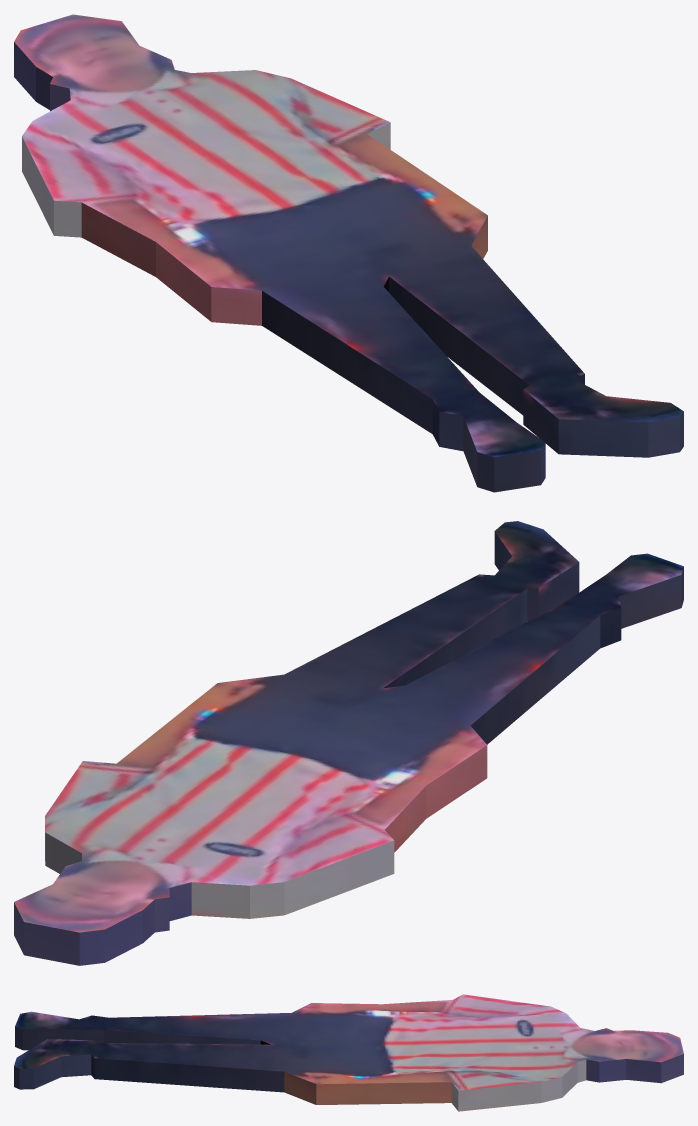
The model's file is round1-guy.glb.
The picture shows the model from 3 angles, top to bottom: view 1: azimuth 30°, elevation 25°; view 2: azimuth 150°, elevation 25°; view 3: azimuth 270°, elevation 25°; orthographic projection. The views are drawn at different scales.
Visible parts, largest first — view 1: round1-guy; view 2: round1-guy; view 3: round1-guy.
Boxes of the visible parts, left/top/right/bottom form: round1-guy: left=14, top=14, right=683, bottom=492; round1-guy: left=14, top=521, right=683, bottom=965; round1-guy: left=14, top=994, right=683, bottom=1111.
Bounding box in the file's own units: 1.59 × 0.1603 × 4.66.
1 material, 1 textured.
